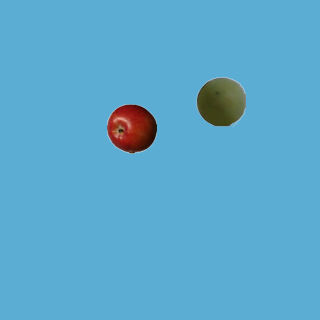Apple Braeburn: (106, 103, 156, 153)
Grape White 4: (195, 76, 245, 126)
